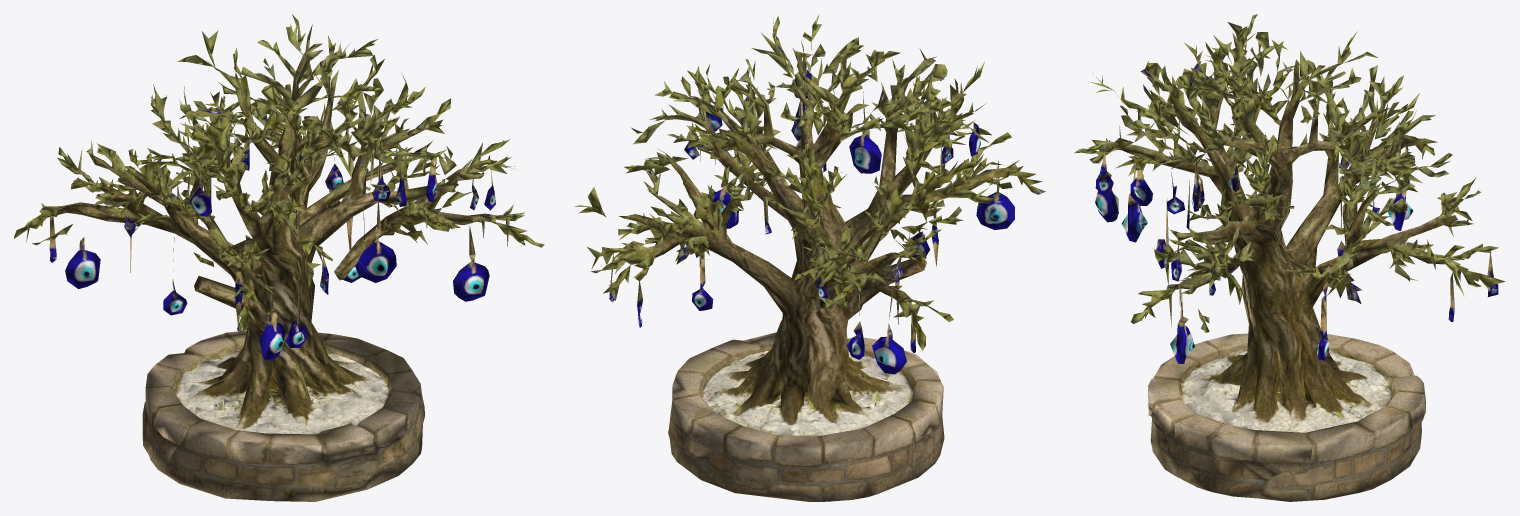
File: city_izmir_nazar_tree.glb
3 views of the same model, side by side, from view 1: azimuth 30°, elevation 25°; view 2: azimuth 150°, elevation 25°; view 3: azimuth 270°, elevation 25° (orthographic).
Parts seen in each view (by area): view 1: Mesh1.0; view 2: Mesh1.0; view 3: Mesh1.0.
Boxes of the visible parts, x1,y1,x2,y2 form: Mesh1.0: (14, 14, 544, 501); Mesh1.0: (574, 14, 1045, 501); Mesh1.0: (1074, 14, 1505, 501).
Bounding box in the file's own units: 3.96 × 3.8 × 3.73.
Materials: 1 (1 with a texture image).
